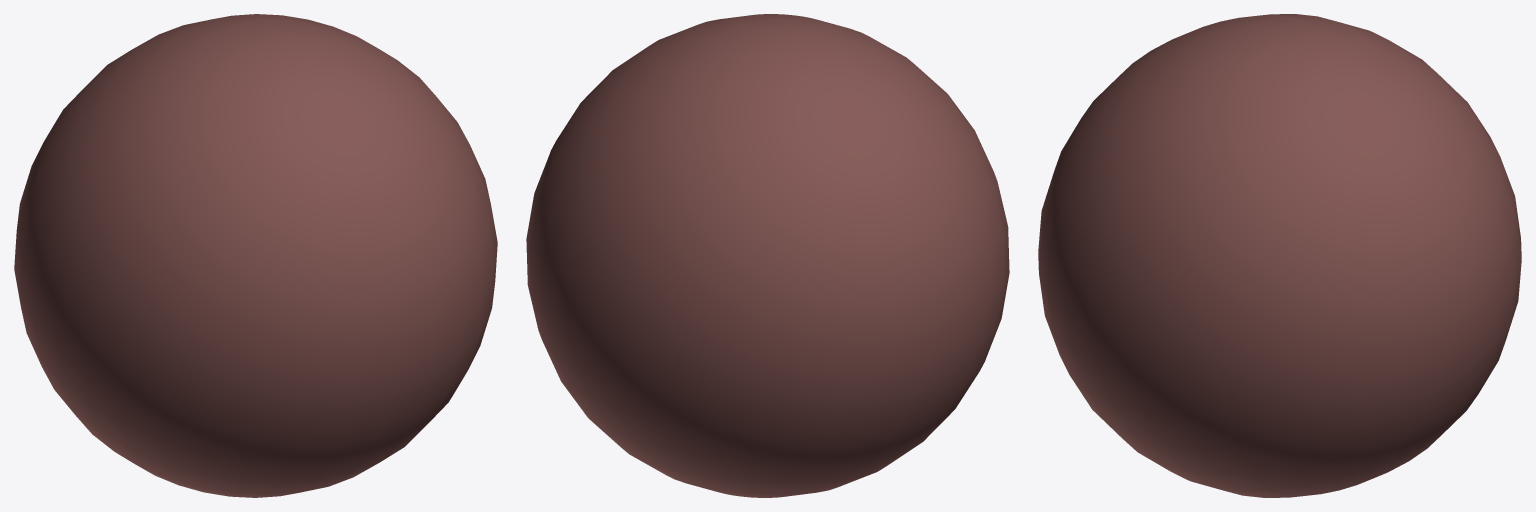
File: planet2.fbx
3 renders of one model, left to right at view 1: azimuth 30°, elevation 25°; view 2: azimuth 150°, elevation 25°; view 3: azimuth 270°, elevation 25°, orthographic.
Visible parts, largest first — view 1: Sphere; view 2: Sphere; view 3: Sphere.
Part boxes in pixels (box(x1,y1,x2,y2)): Sphere: box(14, 14, 497, 497); Sphere: box(526, 14, 1009, 497); Sphere: box(1038, 14, 1521, 497).
Size of the model in its own units: 1.99 by 2 by 1.99.
